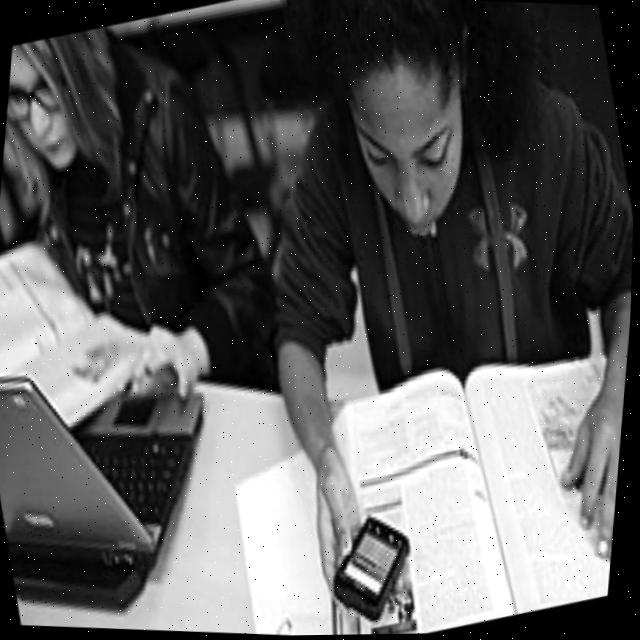phone: (319, 505, 433, 634)
